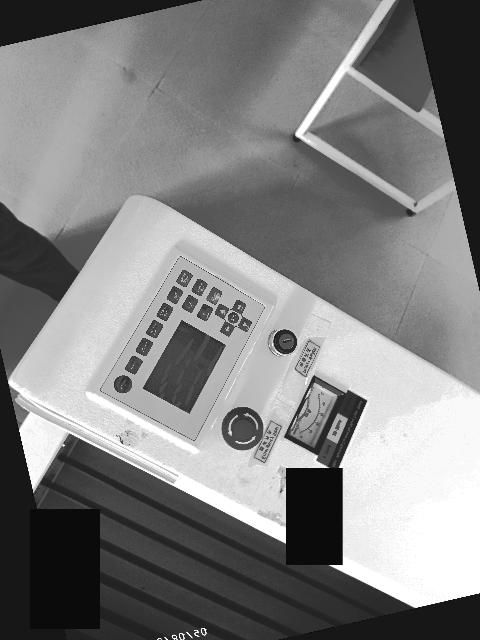Amp_Meter: (285, 376, 345, 455)
Display: (143, 320, 225, 414)
Down_button: (215, 304, 229, 319)
Emergency_Stop: (221, 407, 264, 450)
Enter_button: (207, 288, 222, 304)
Esc_button: (197, 304, 213, 321)
File_button: (167, 286, 183, 304)
Frame_button: (192, 279, 207, 296)
Left_button: (220, 322, 234, 336)
Max-Power_button: (157, 303, 173, 321)
Min-Power_button: (147, 320, 163, 338)
Origin_button: (182, 295, 198, 312)
Power_switch: (268, 329, 297, 355)
Pulse_button: (125, 356, 142, 374)
Reset_button: (114, 375, 132, 393)
Right_button: (232, 299, 246, 314)
Speed_button: (136, 338, 153, 356)
Start-Pause_button: (176, 270, 192, 287)
Up_button: (238, 318, 252, 332)
Z_U_button: (228, 312, 239, 323)
